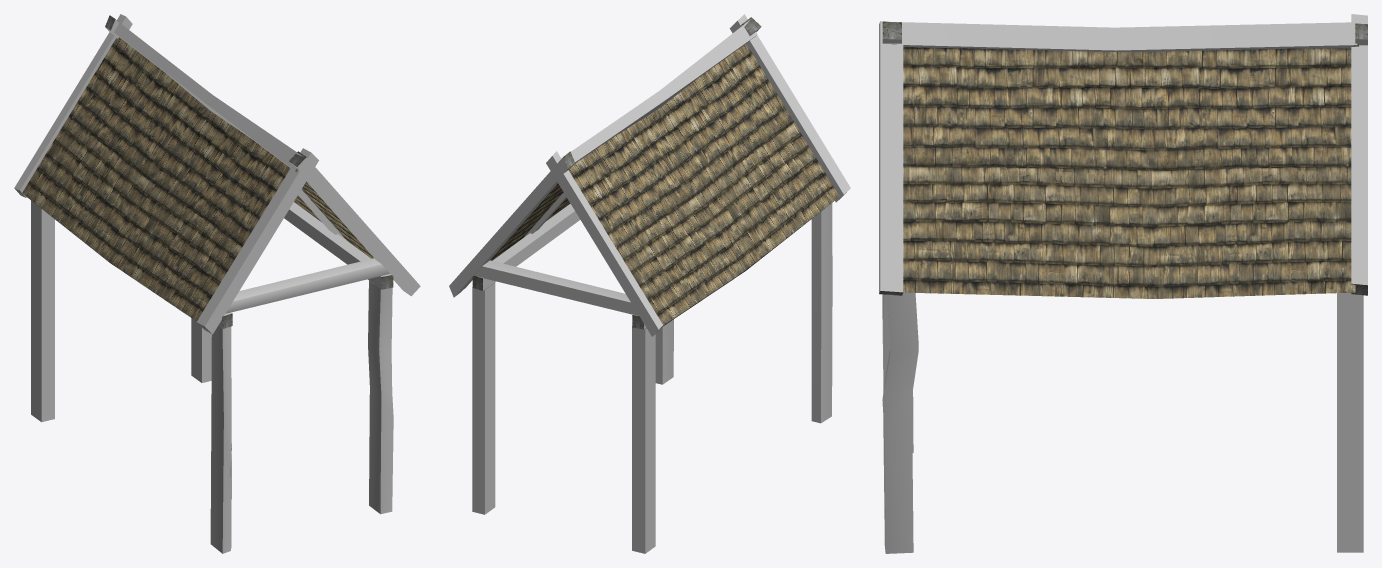
The model's file is SM_Roof2.fbx.
The picture shows the model from 3 angles, left to right: view 1: azimuth 30°, elevation 25°; view 2: azimuth 150°, elevation 25°; view 3: azimuth 270°, elevation 25°; orthographic projection. The views are drawn at different scales.
Parts seen in each view (by area): view 1: SM_Roof2; view 2: SM_Roof2; view 3: SM_Roof2.
Boxes of the visible parts, x1=… form: SM_Roof2: x1=14, y1=14, x2=420, y2=553; SM_Roof2: x1=449, y1=14, x2=850, y2=553; SM_Roof2: x1=879, y1=14, x2=1367, y2=553.
Size of the model in its own units: 339 by 524 by 571.
